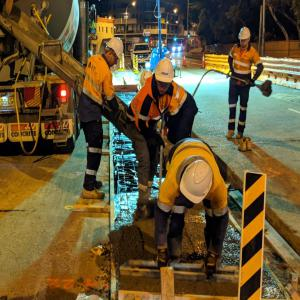white: (180, 158, 215, 206), (154, 58, 176, 95), (104, 38, 125, 67), (238, 27, 252, 48)
